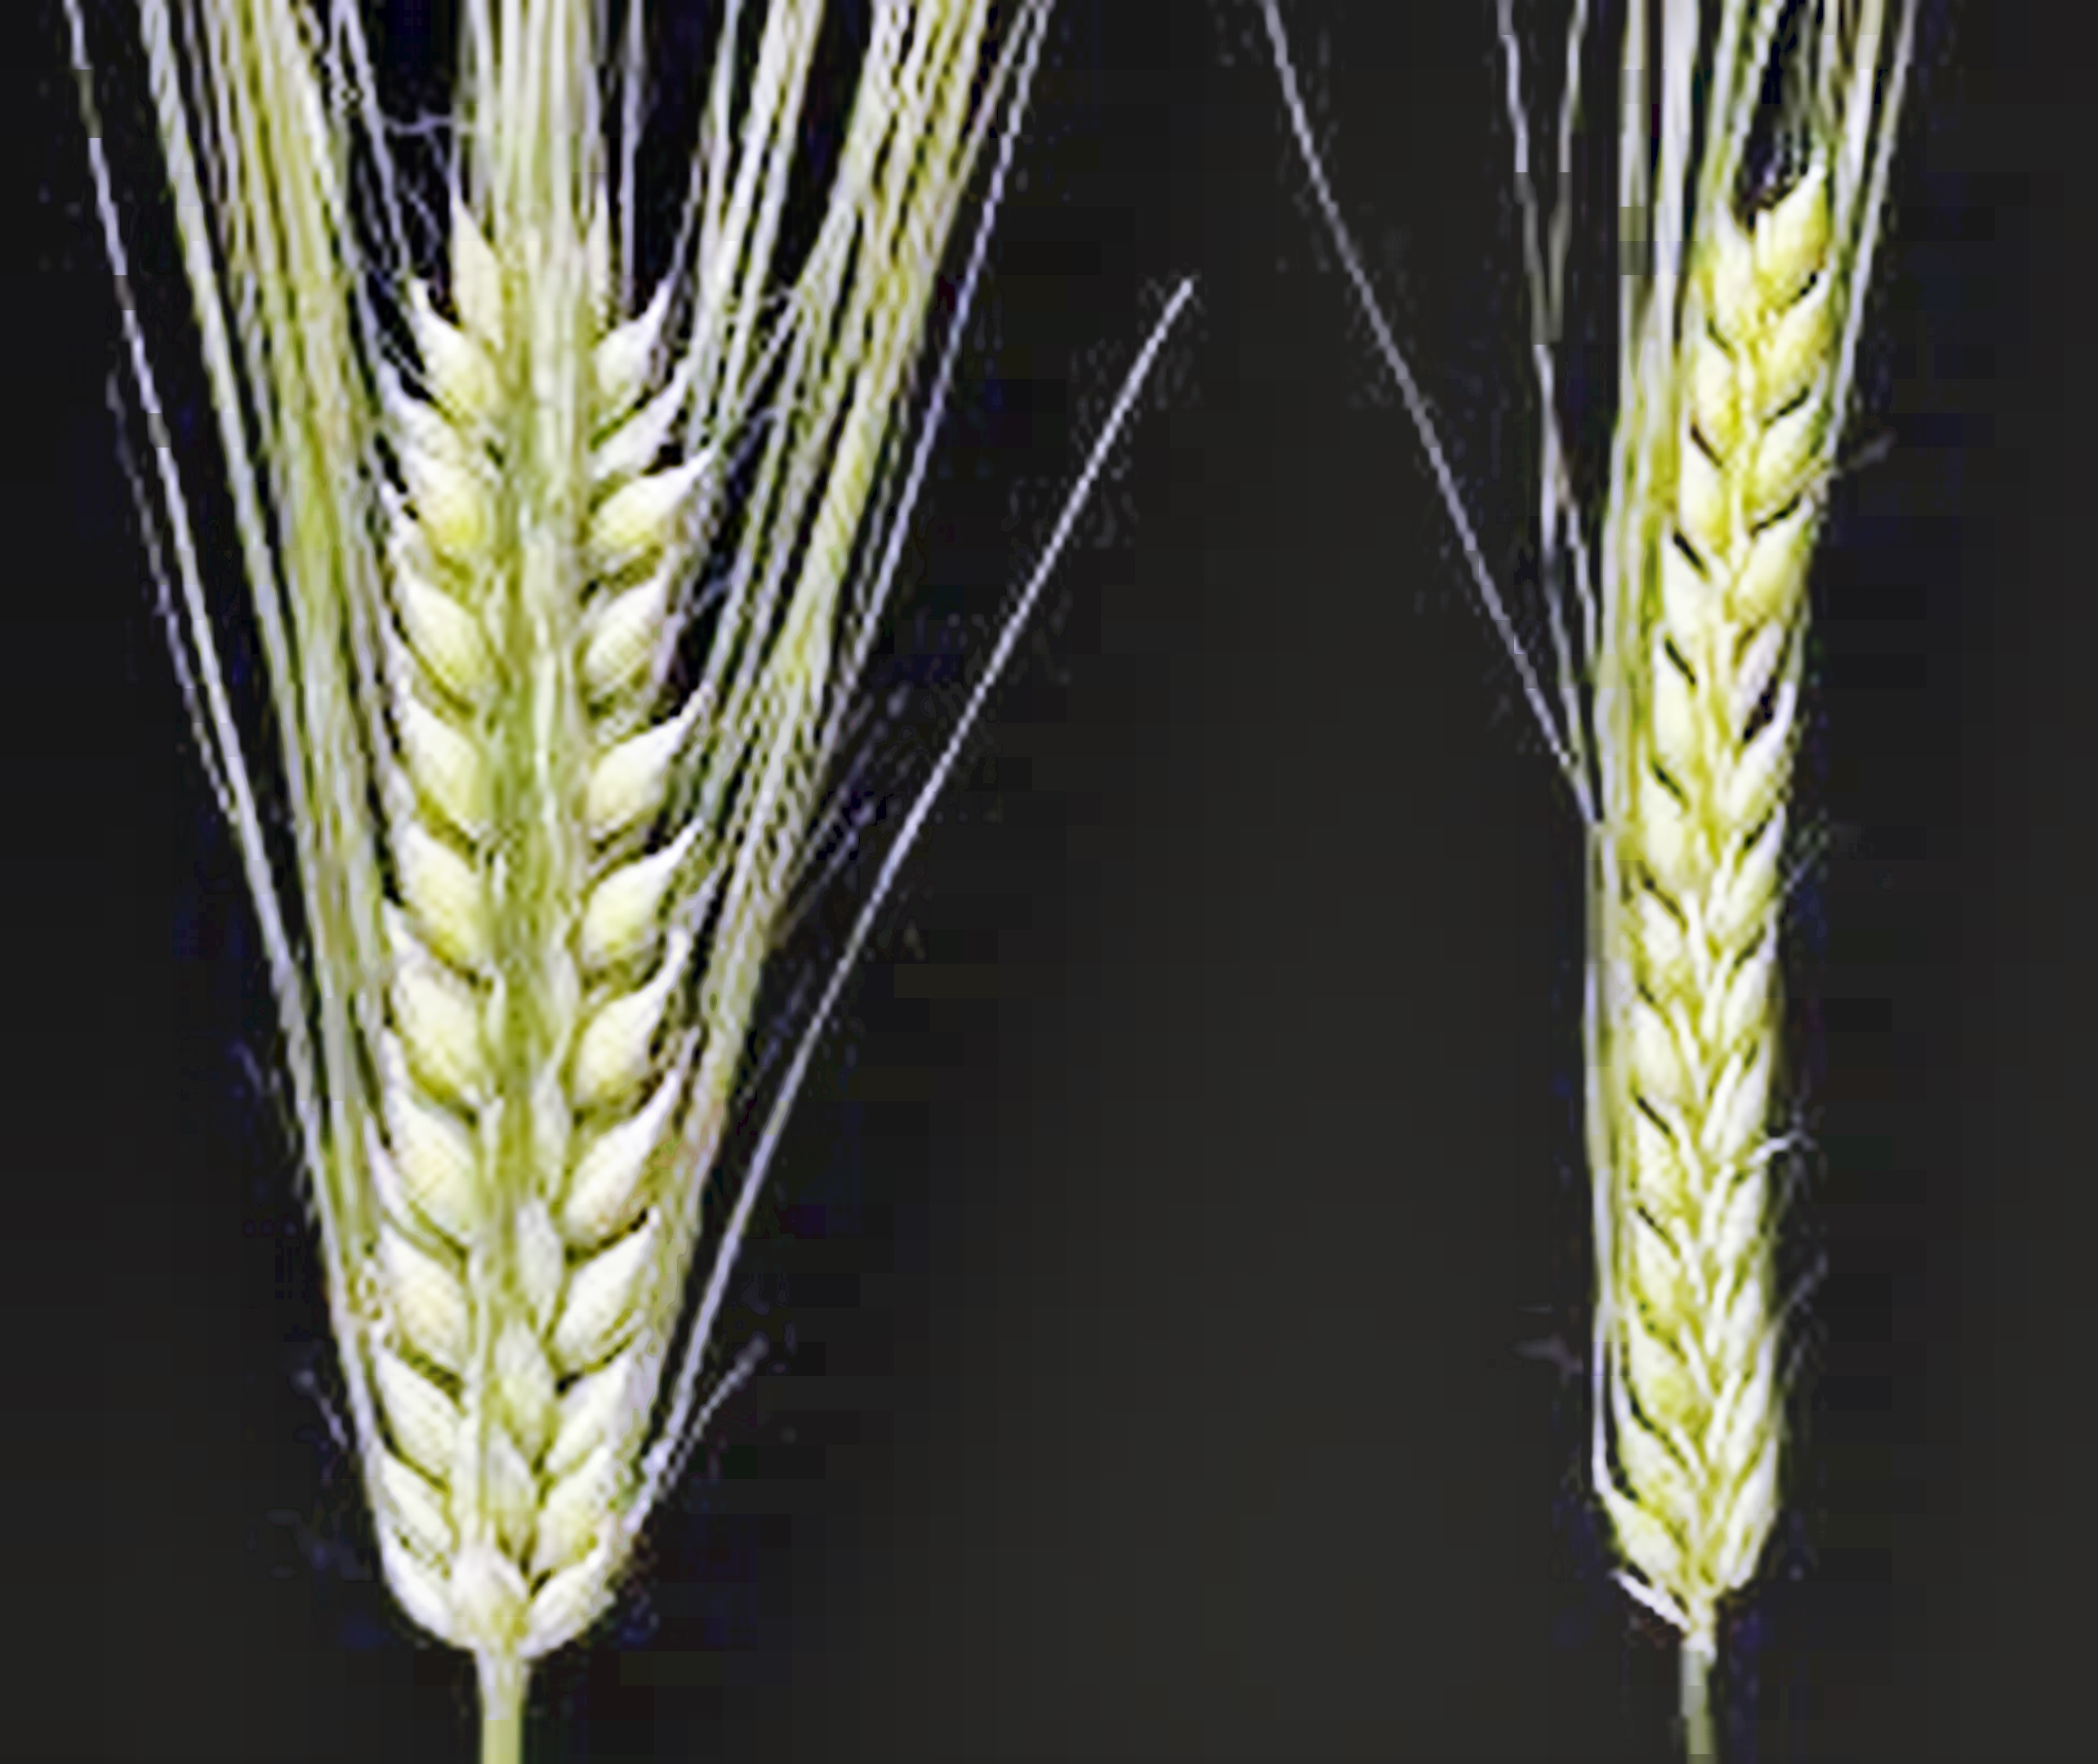Healthy Wheat: (290, 224, 768, 1669), (1543, 156, 1888, 1624)
